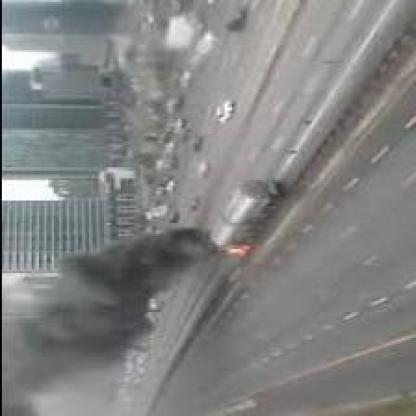Smoke: (4, 227, 204, 412)
